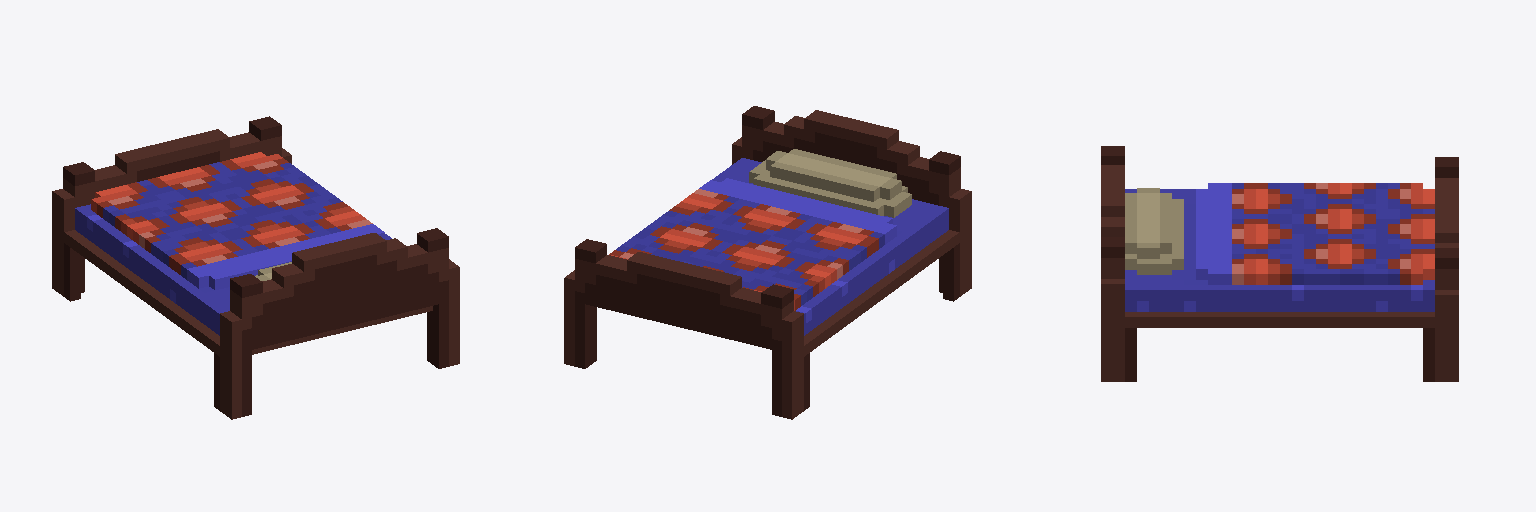
The picture shows the model from 3 angles: view 1: azimuth 30°, elevation 25°; view 2: azimuth 150°, elevation 25°; view 3: azimuth 270°, elevation 25°; orthographic projection.
Visible parts, largest first — view 1: object 1; view 2: object 1; view 3: object 1.
Part boxes in pixels (bbox=[...]): object 1: bbox=[52, 116, 459, 419]; object 1: bbox=[564, 106, 971, 419]; object 1: bbox=[1101, 146, 1458, 381].
Size of the model in its own units: 2.2 by 1.3 by 3.
1 materials, 1 textured.